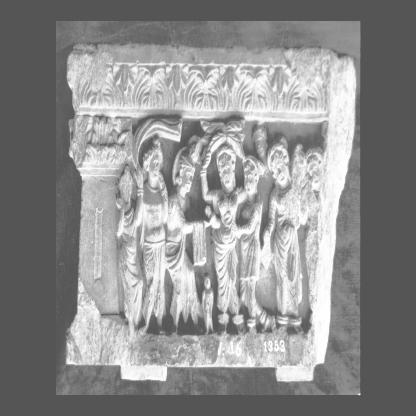buddha-standing: (201, 144, 247, 325)
